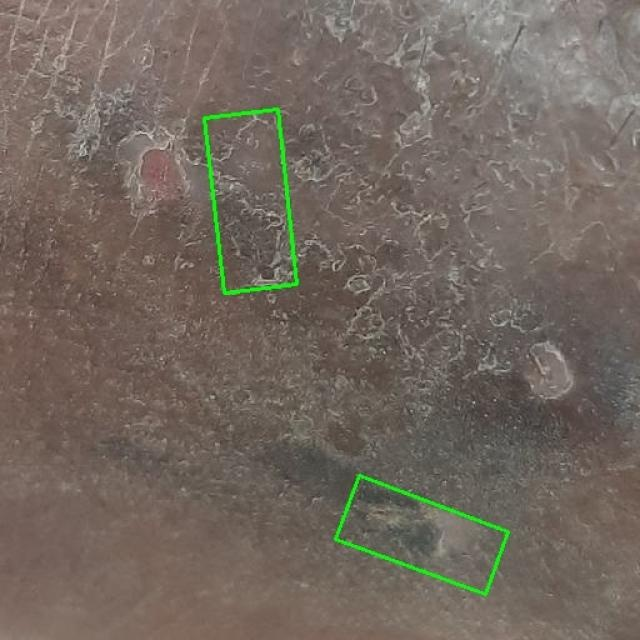Eczema: (336, 476, 508, 594), (204, 110, 297, 293)
